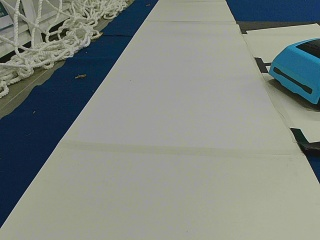car: (267, 35, 318, 105)
